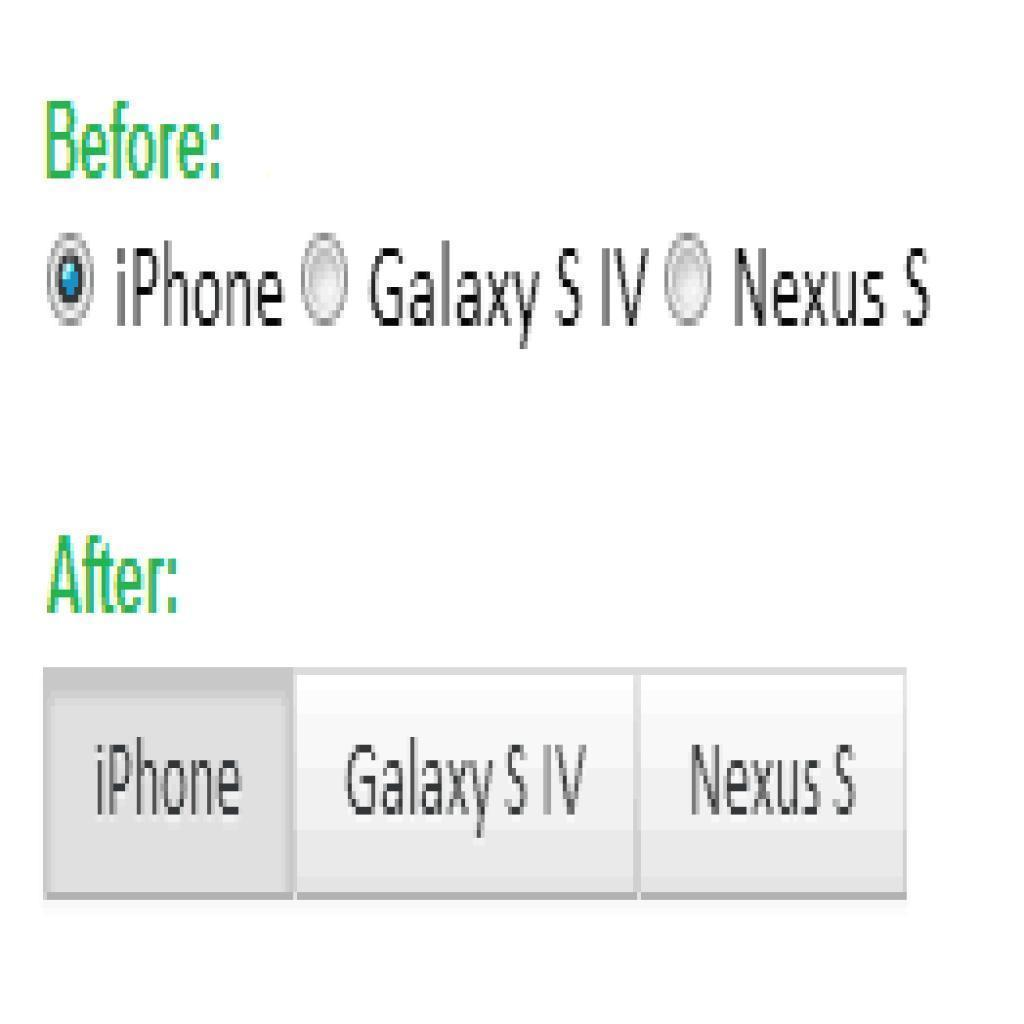radio: (293, 225, 356, 327), (662, 226, 717, 331), (43, 227, 94, 331)
